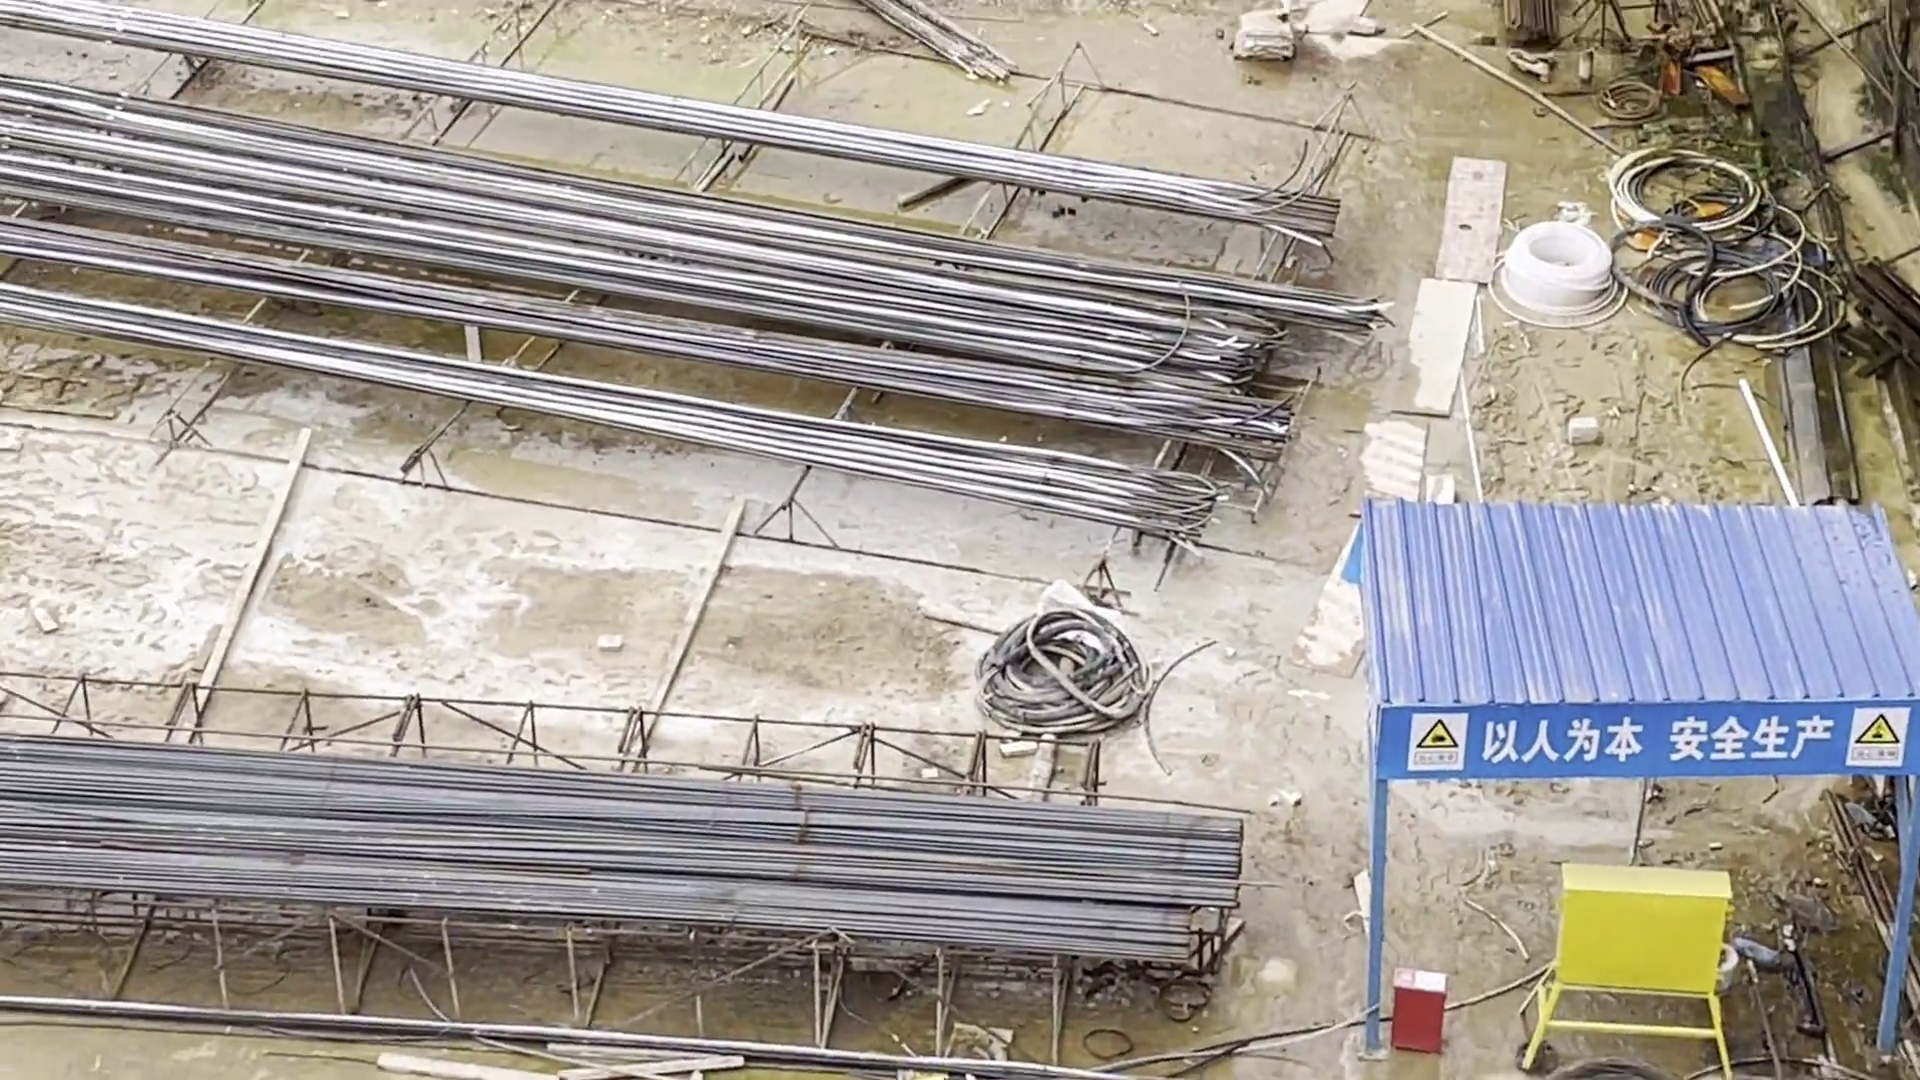ebox: (1511, 837, 1745, 1075)
rebar: (94, 7, 1315, 500), (11, 715, 1250, 1007)
slogan: (1394, 696, 1911, 781)
